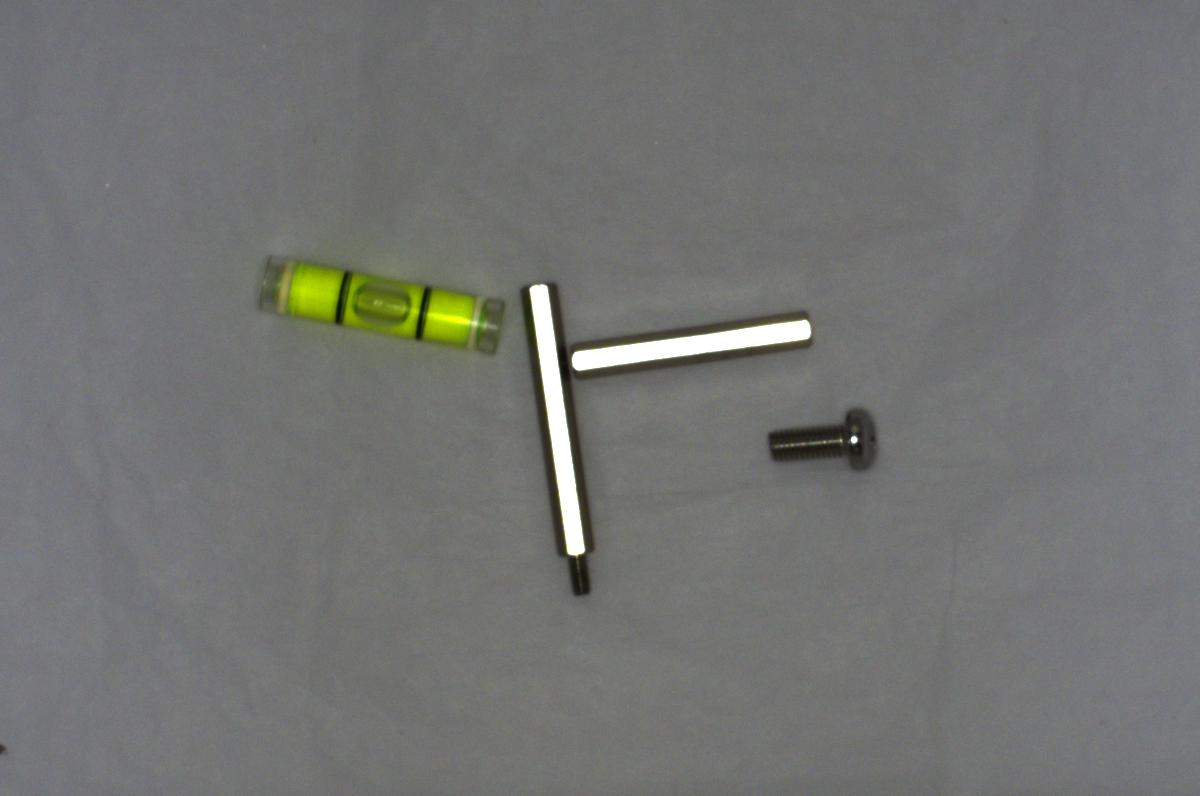Double hexagonal column: (567, 309, 826, 379)
Hexagonal steel column: (524, 274, 597, 601)
Horizontal bubble: (252, 250, 511, 356)
Round head screw: (761, 401, 893, 475)
